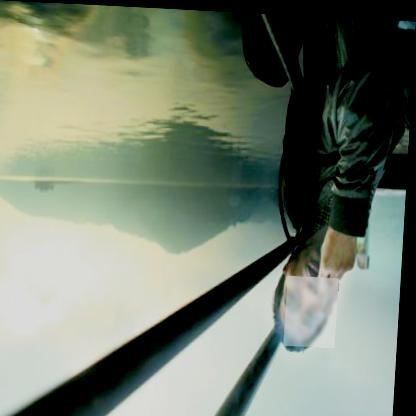smoke: (288, 272, 342, 344)
